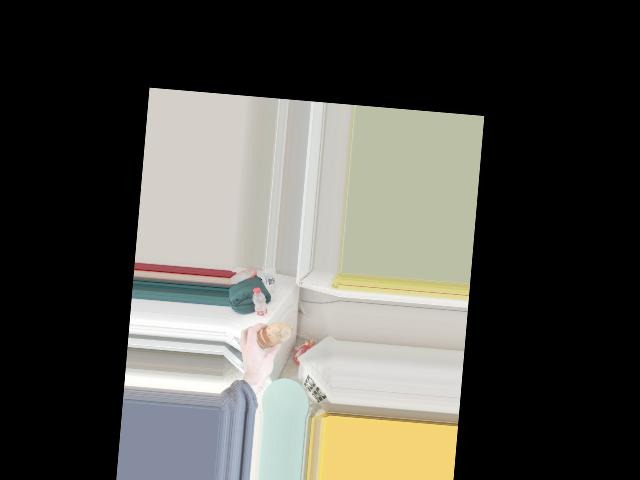sweet_potato: (256, 320, 286, 350)
